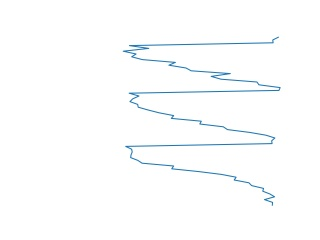distributaryMouthBar: (121, 34, 282, 209)
